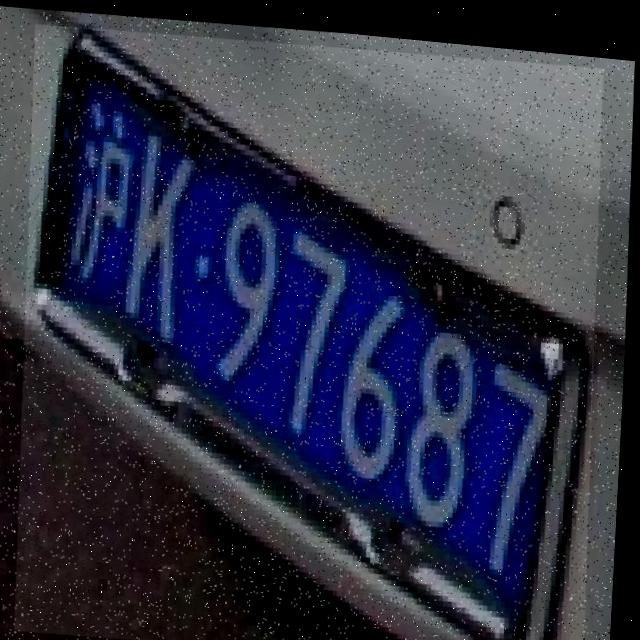LicensePlate: (11, 13, 614, 640)
